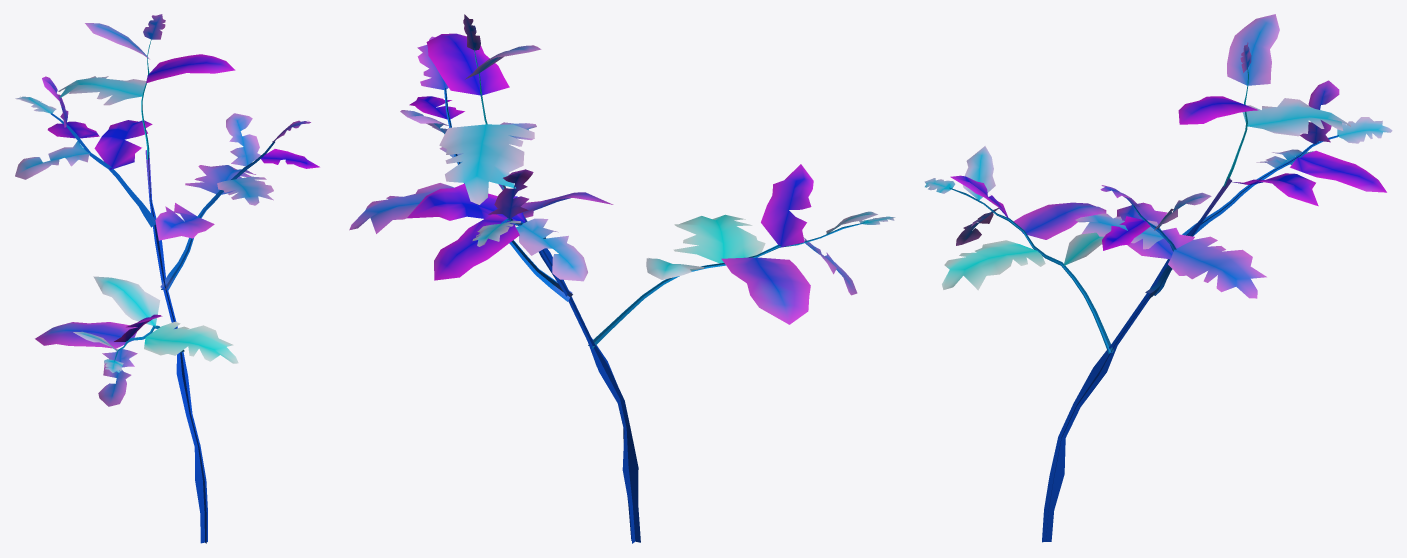
File: Black_Locust_wdvhberja_Mid_wdvhberja_VarG_LOD1.fbx
3 views of the same model, side by side, from view 1: azimuth 30°, elevation 25°; view 2: azimuth 150°, elevation 25°; view 3: azimuth 270°, elevation 25° (orthographic). The views are drawn at different scales.
Visible parts, largest first — view 1: _3hf0_VarG_LOD2; view 2: _3hf0_VarG_LOD2; view 3: _3hf0_VarG_LOD2.
Boxes of the visible parts, <box> form: _3hf0_VarG_LOD2: <box>15,14,319,543</box>; _3hf0_VarG_LOD2: <box>349,14,895,543</box>; _3hf0_VarG_LOD2: <box>924,14,1392,542</box>.
Bounding box in the file's own units: 59.22 × 85.98 × 70.06.
